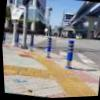Animal: (64, 41, 79, 73), (41, 35, 55, 60), (24, 33, 35, 55)
